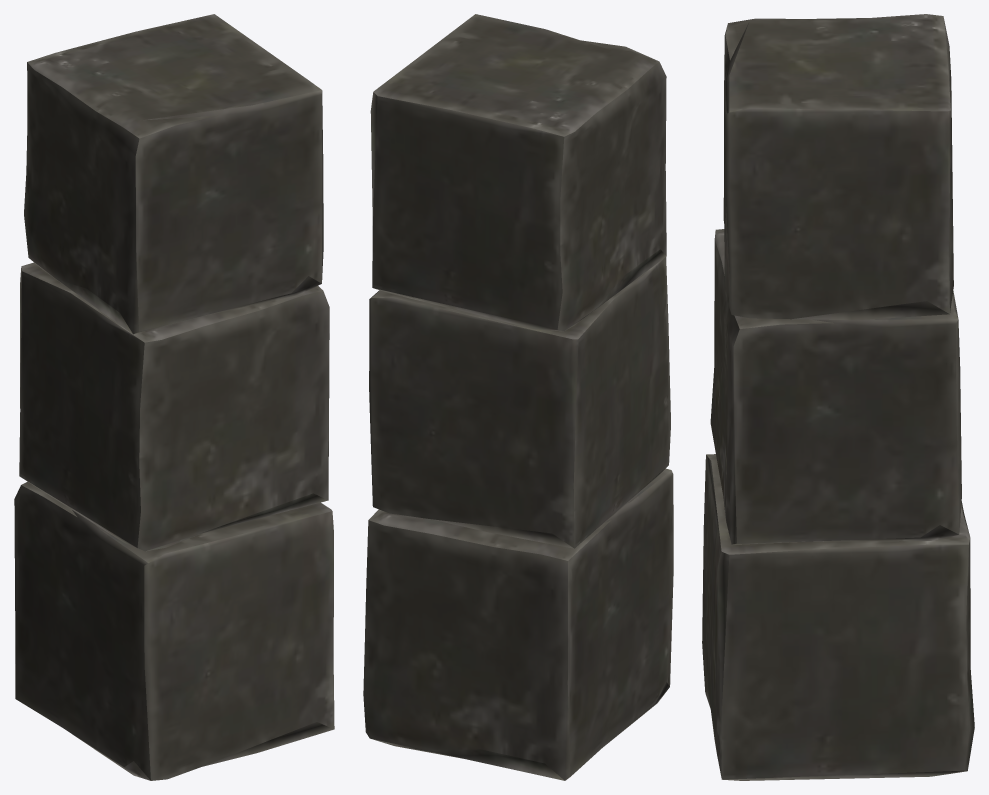
The picture shows the model from 3 angles, left to right: view 1: azimuth 30°, elevation 25°; view 2: azimuth 150°, elevation 25°; view 3: azimuth 270°, elevation 25°; orthographic projection. The views are drawn at different scales.
Visible parts, largest first — view 1: SM_Greathall_WallCap_6m_01_LOD0; view 2: SM_Greathall_WallCap_6m_01_LOD0; view 3: SM_Greathall_WallCap_6m_01_LOD0.
Part boxes in pixels (<box>): SM_Greathall_WallCap_6m_01_LOD0: <box>14,14,334,780</box>; SM_Greathall_WallCap_6m_01_LOD0: <box>363,14,673,780</box>; SM_Greathall_WallCap_6m_01_LOD0: <box>702,14,974,780</box>.
Bounding box in the file's own units: 2.1 × 6.03 × 2.22.
1 material, 1 textured.
